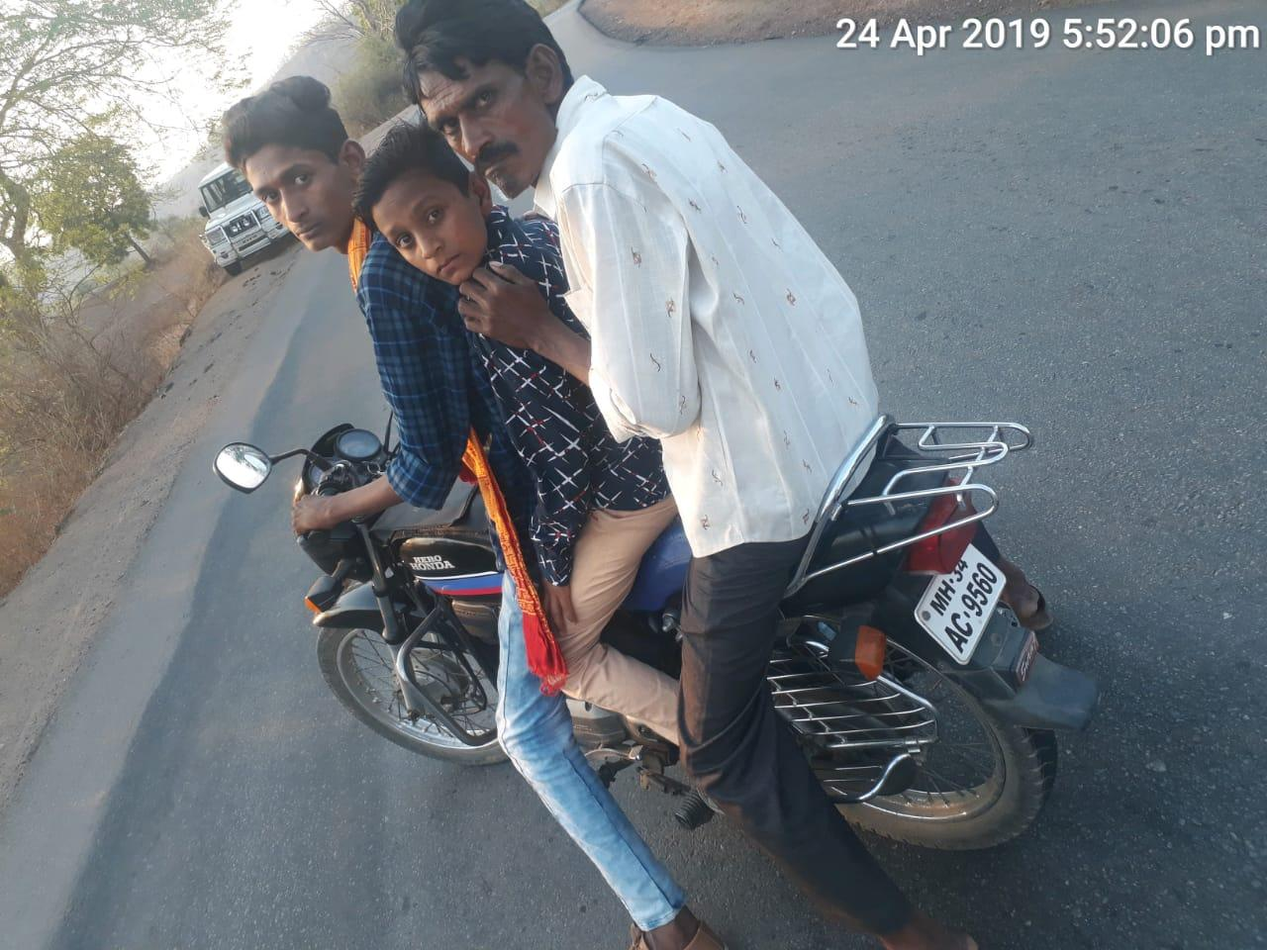plate: (897, 531, 1041, 680)
